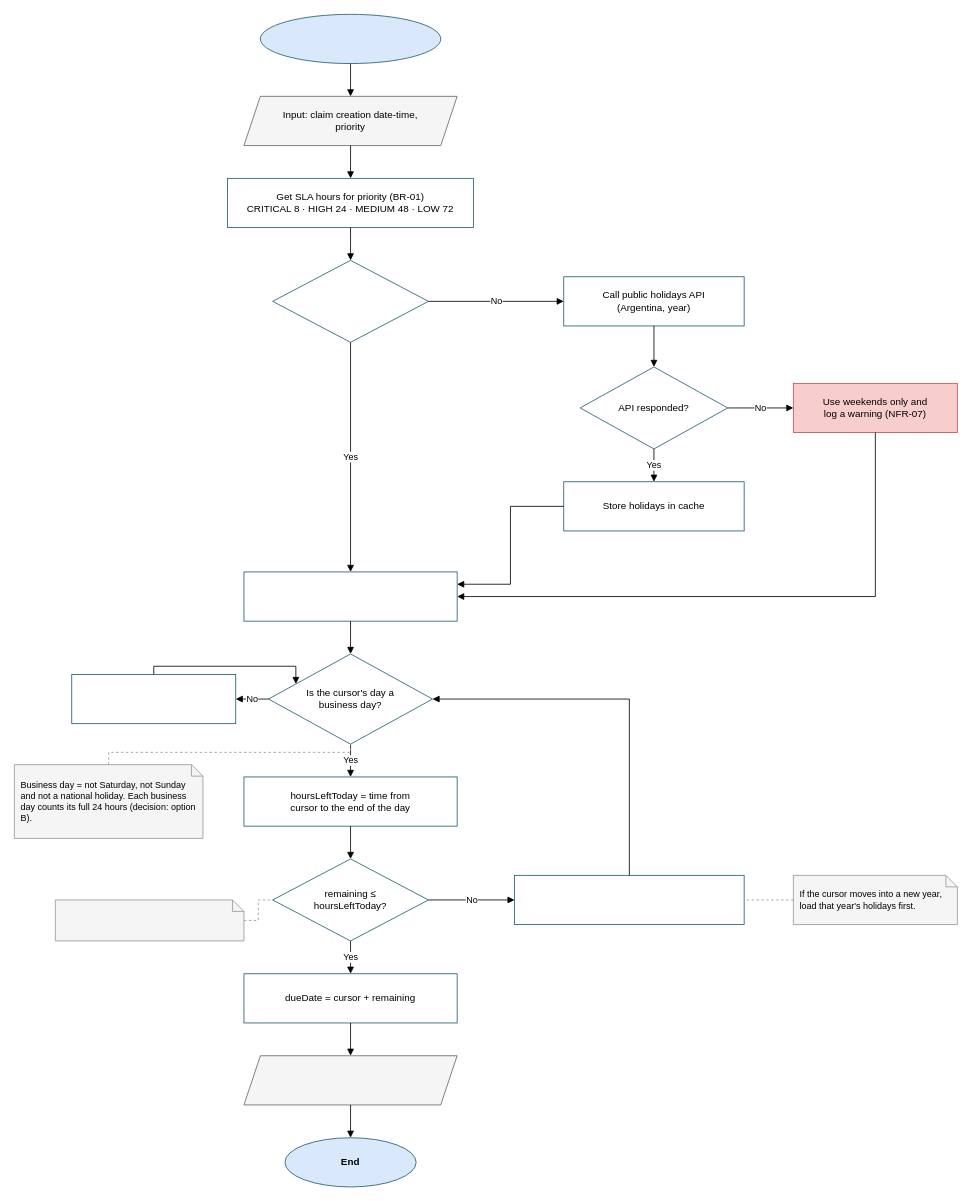
Some shapes in this 972 by 1201 pixel diagram are drawn without their labels. Each missing label, with the box of its shape:
Calculate SLA due date: (260, 14, 441, 64)
cursor = creation date-time remaining = SLA hours: (243, 571, 457, 621)
Days are evaluated in America/Argentina/Buenos_Aires time.: (55, 899, 244, 941)
Holidays of this year in cache?: (272, 260, 428, 342)
Move cursor to 00:00 of the next day: (71, 674, 236, 724)
remaining = remaining − hoursLeftToday Move cursor to 00:00 of the next day: (514, 875, 744, 925)
Return SLA due date: (243, 1055, 457, 1105)
